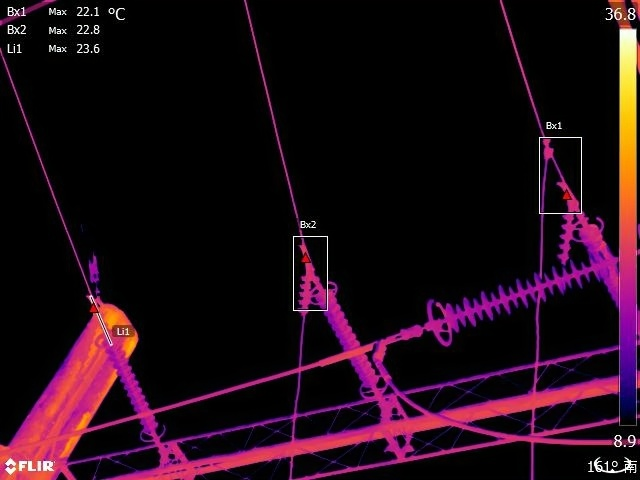clamp: (536, 134, 562, 166)
insulator: (421, 242, 621, 350), (308, 275, 393, 402), (95, 325, 173, 447), (575, 207, 618, 323)
tube: (552, 198, 580, 267), (291, 264, 319, 318)
